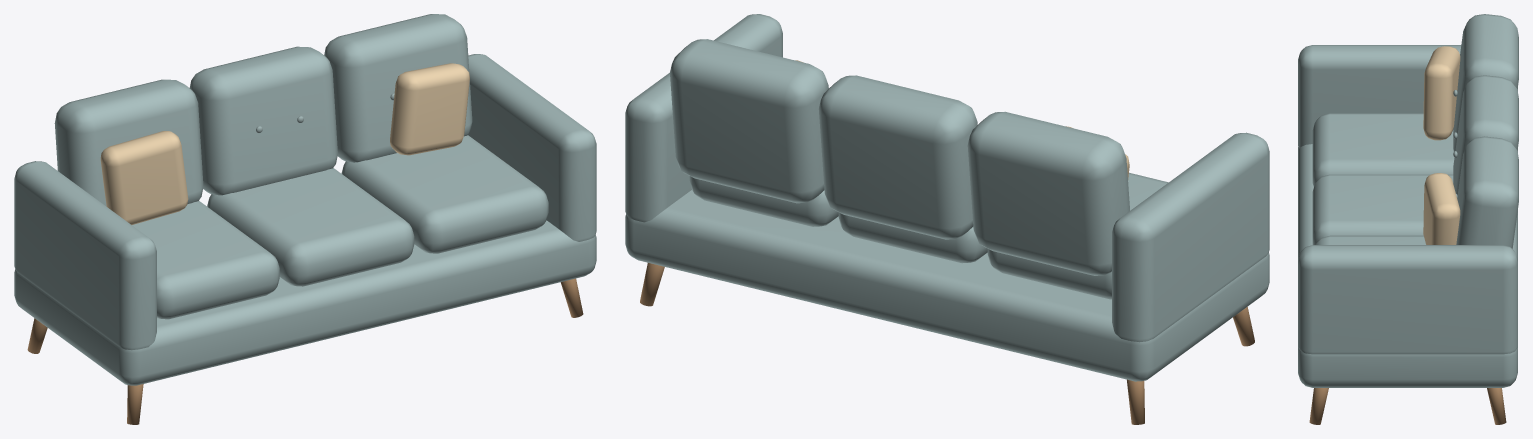
The model's file is atelier-standard-sofa.glb.
3 renders of one model, left to right at view 1: azimuth 30°, elevation 25°; view 2: azimuth 150°, elevation 25°; view 3: azimuth 270°, elevation 25°, orthographic. The views are drawn at different scales.
Parts seen in each view (by area): view 1: fabric, accent, legs; view 2: fabric, legs; view 3: fabric, accent, legs.
Part boxes in pixels (x1,y1,x2,y2): fabric: [14, 14, 596, 385]; accent: [100, 63, 469, 224]; legs: [27, 278, 583, 424]; fabric: [625, 14, 1269, 381]; legs: [640, 263, 1254, 424]; fabric: [1298, 14, 1518, 387]; accent: [1423, 46, 1460, 244]; legs: [1309, 388, 1506, 424].
Bounding box in the file's own units: 2.1 × 1.02 × 0.9046.
